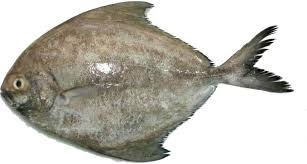Ikan Bawal: (1, 1, 302, 160)
